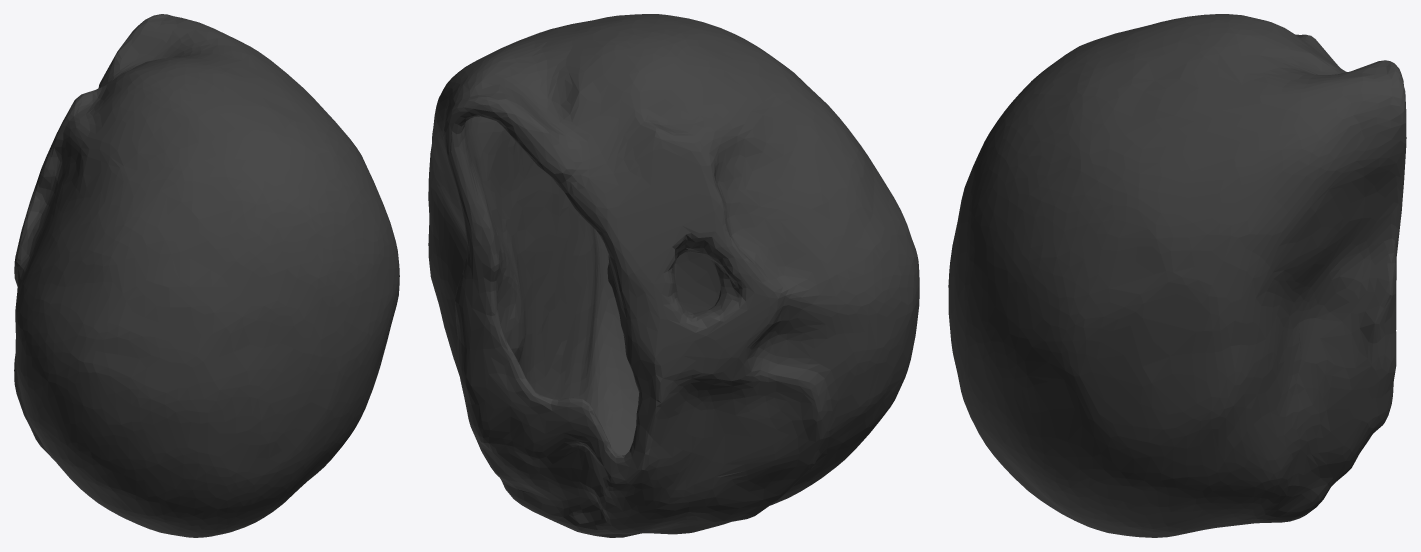
File: Goat_reticulum_low.glb
3 renders of one model, left to right at view 1: azimuth 30°, elevation 25°; view 2: azimuth 150°, elevation 25°; view 3: azimuth 270°, elevation 25°, orthographic. The views are drawn at different scales.
Visible parts, largest first — view 1: Goat_reticulum_low; view 2: Goat_reticulum_low; view 3: Goat_reticulum_low.
Boxes of the visible parts, left/top/right/bottom form: Goat_reticulum_low: left=14, top=14, right=399, bottom=537; Goat_reticulum_low: left=428, top=14, right=919, bottom=537; Goat_reticulum_low: left=948, top=14, right=1406, bottom=537.
Bounding box in the file's own units: 1.51 × 1.7 × 1.41.
1 material, 1 textured.
